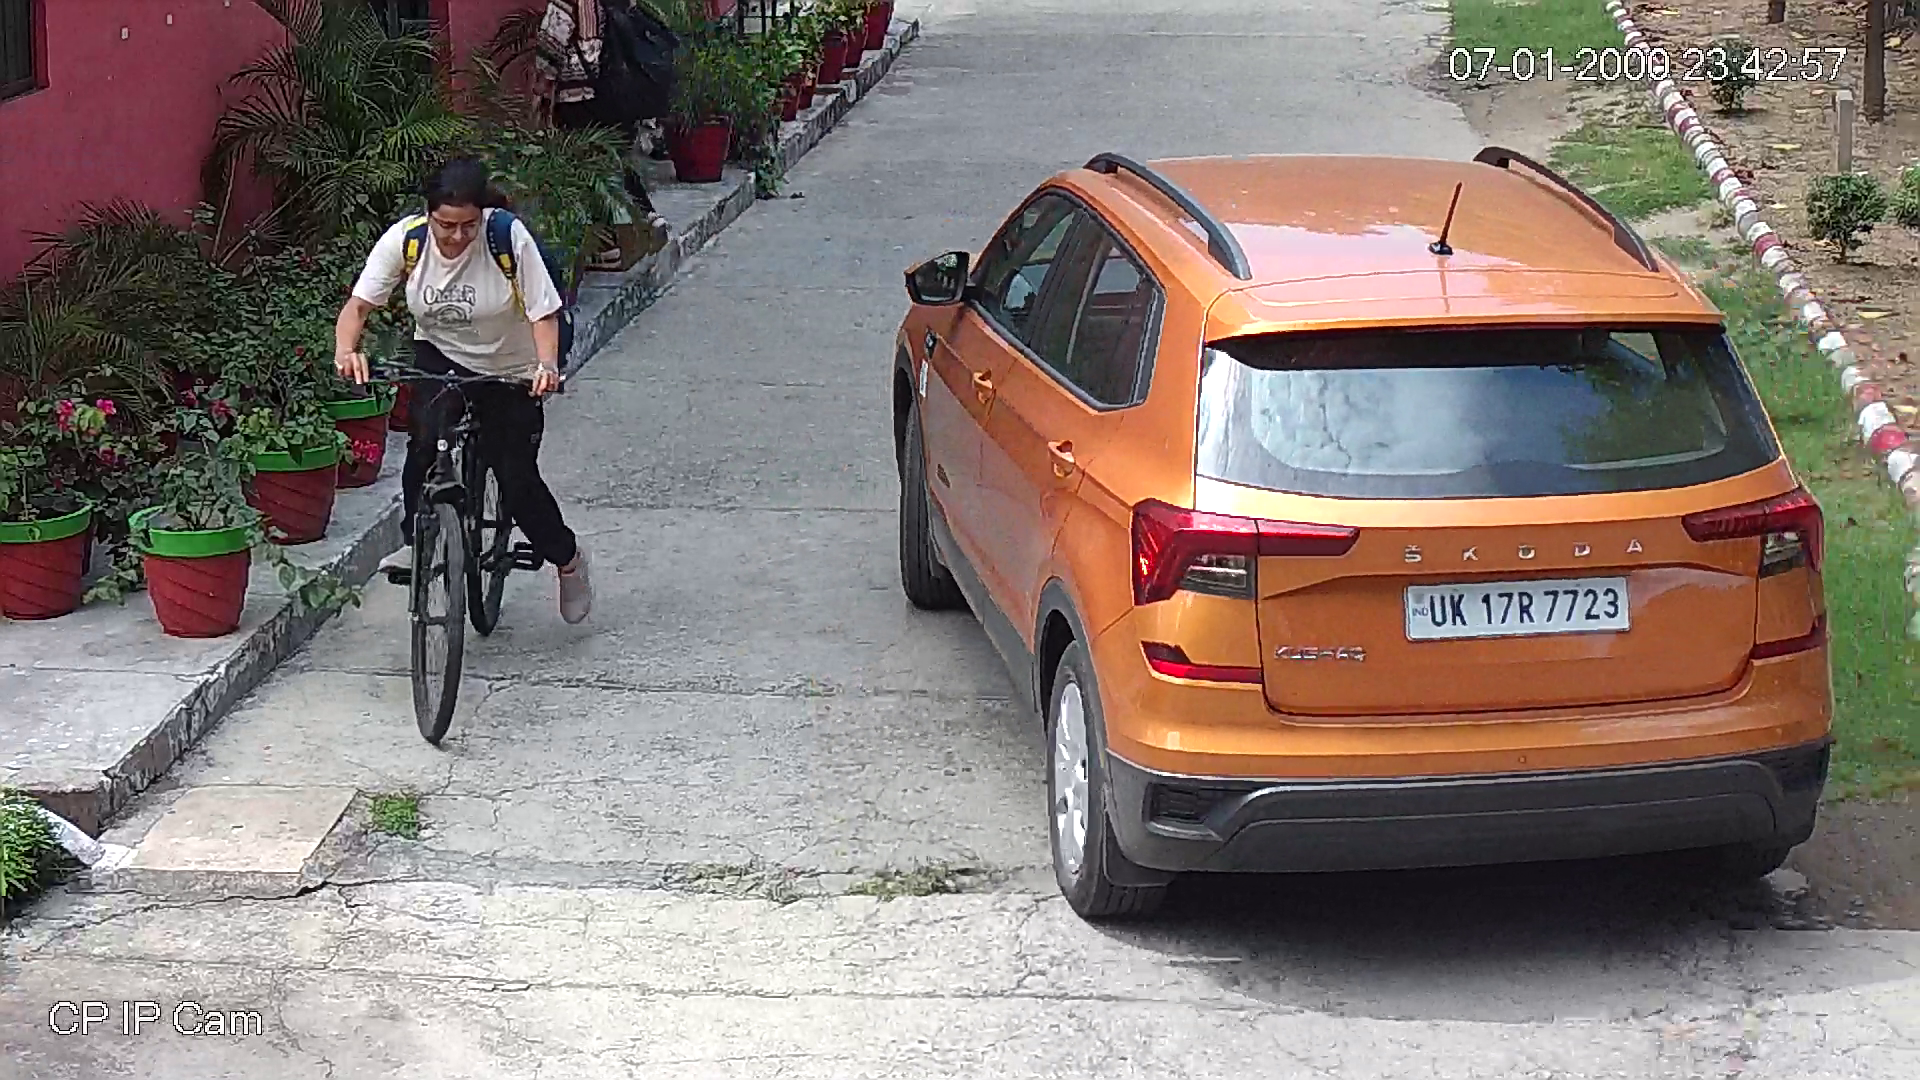plate: (1403, 574, 1633, 644)
